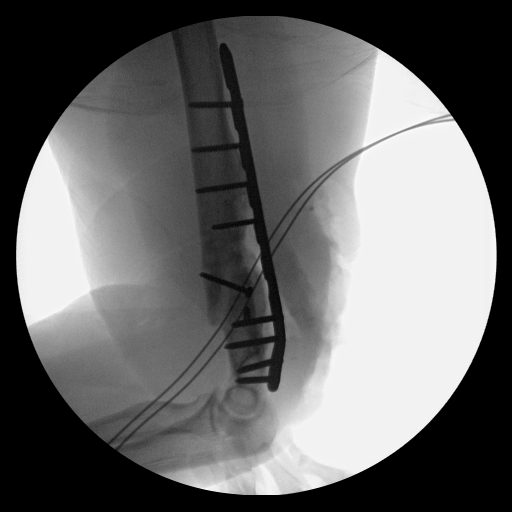implant: (173, 90, 268, 233), (189, 264, 287, 397)
